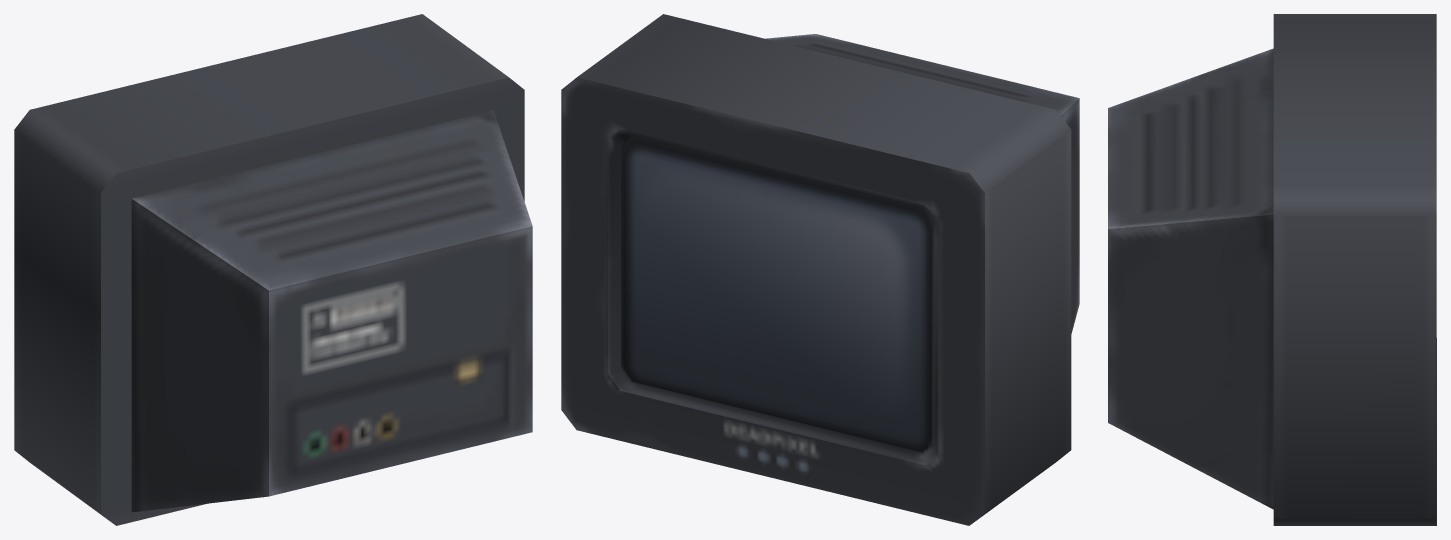
File: ELT0110004.fbx
The picture shows the model from 3 angles, left to right: view 1: azimuth 30°, elevation 25°; view 2: azimuth 150°, elevation 25°; view 3: azimuth 270°, elevation 25°; orthographic projection. The views are drawn at different scales.
Parts seen in each view (by area): view 1: smELT0110004; view 2: smELT0110004; view 3: smELT0110004.
Part boxes in pixels (x1,y1,x2,y2): smELT0110004: (14,14,532,525); smELT0110004: (561,14,1079,525); smELT0110004: (1108,14,1436,525).
Size of the model in its own units: 79.61 by 63.35 by 56.94.
Materials: 1 (1 with a texture image).
